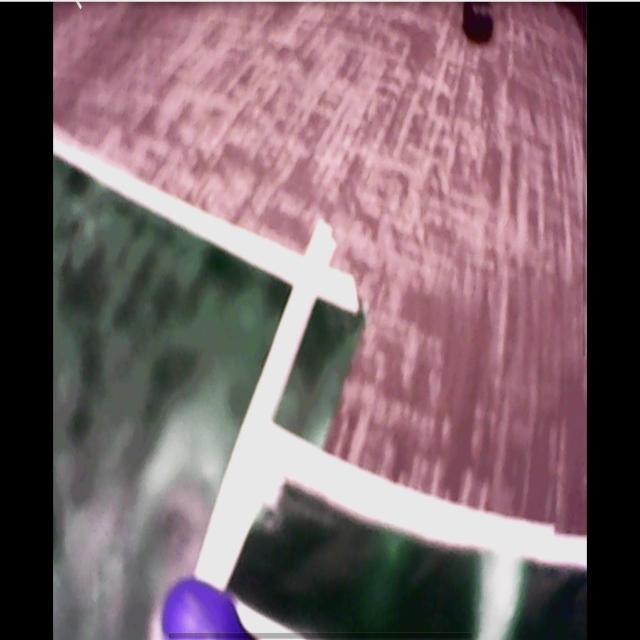ball: (163, 578, 242, 640)
